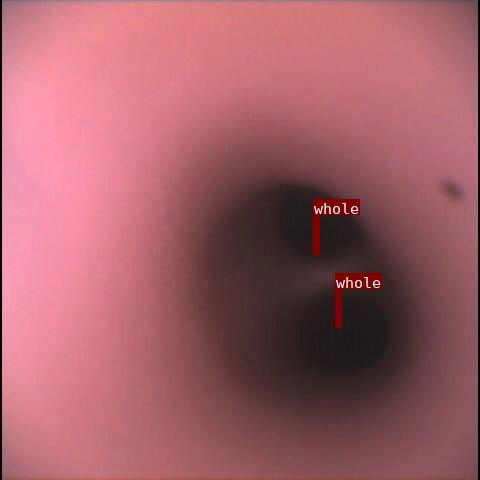whole: (313, 215, 319, 254), (335, 289, 341, 327)
